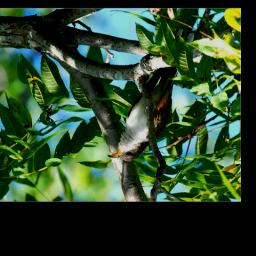Cuckoo: (107, 67, 177, 162)
